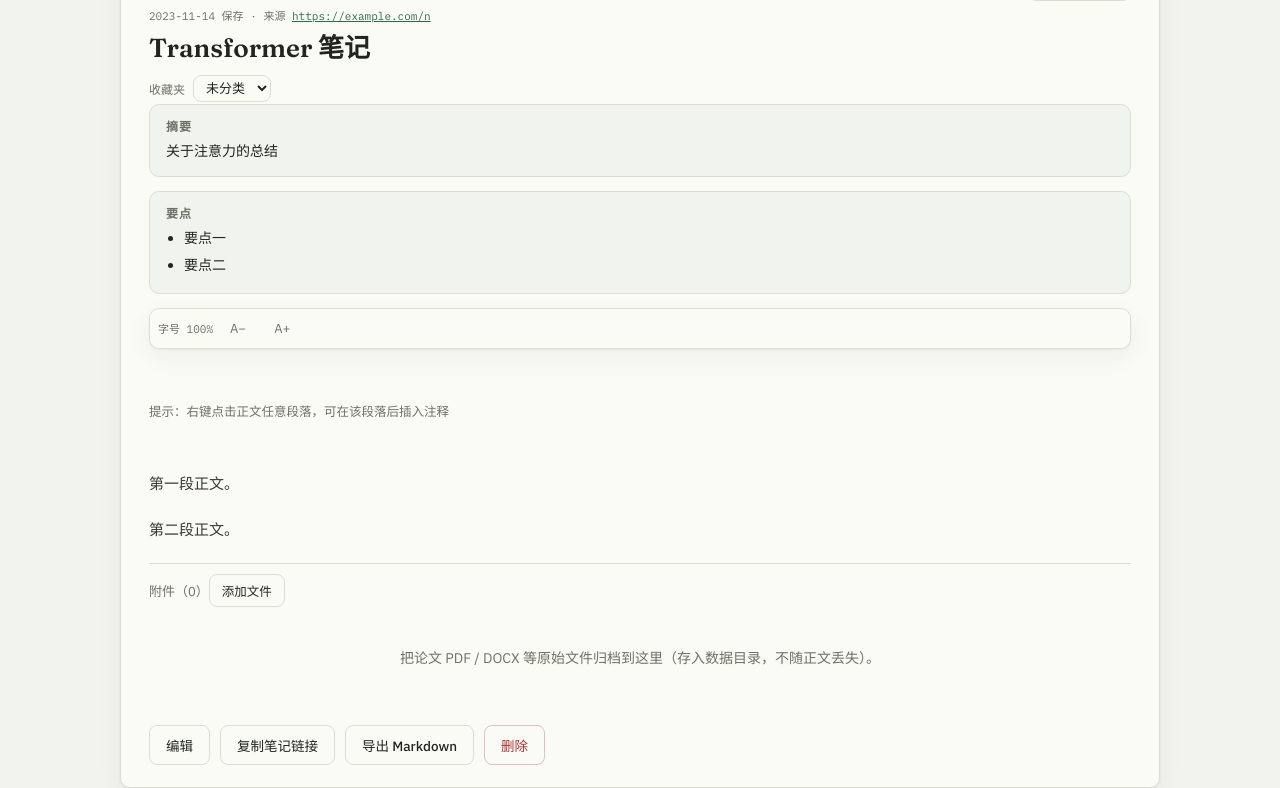
NoteView › 编辑正文并保存修改
(page scrolled)
expect the heading "Transformer 笔记" is shown: met, box [149,32,370,64]
Click the button "编辑" at coordinates (180, 745), box [149,725,210,765]
(page scrolled)
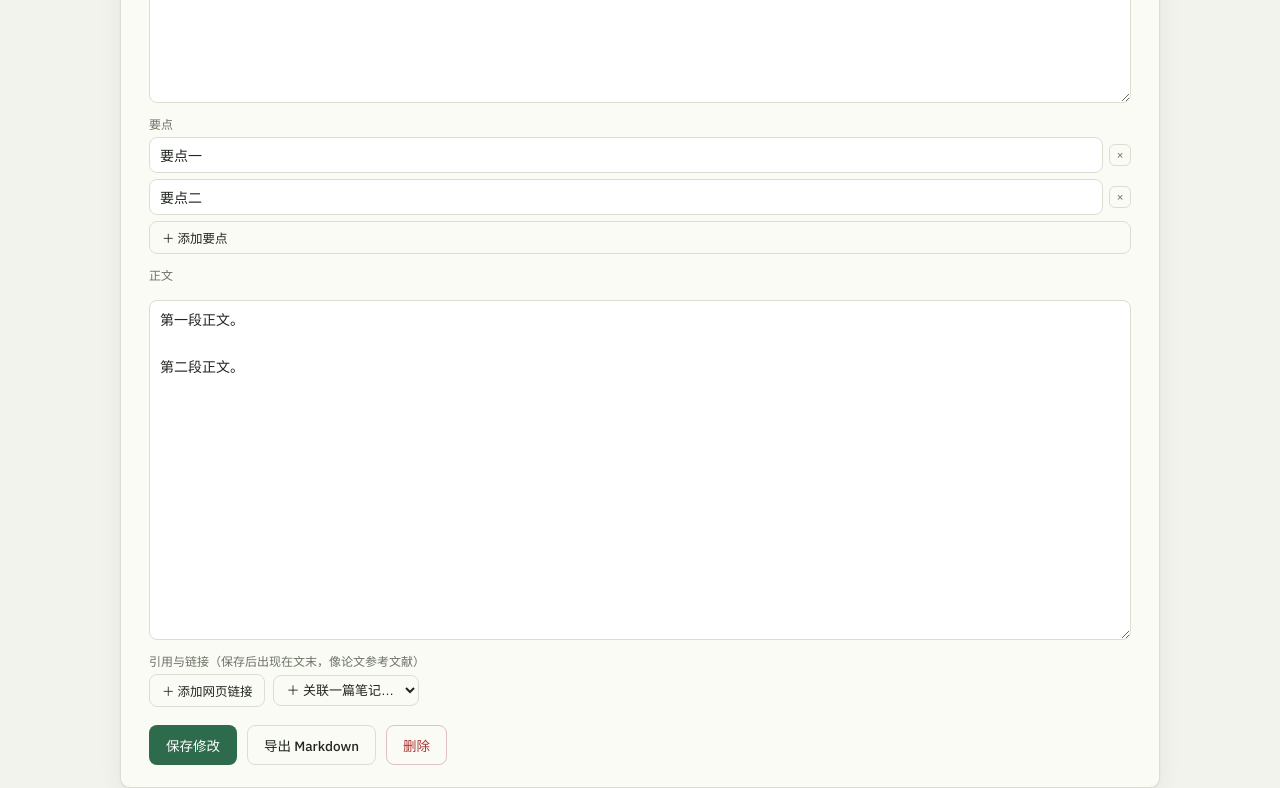
Replace the text in the text box named "笔记正文编辑区" with "新写的正文" at coordinates (640, 470), box [149,300,1131,640]
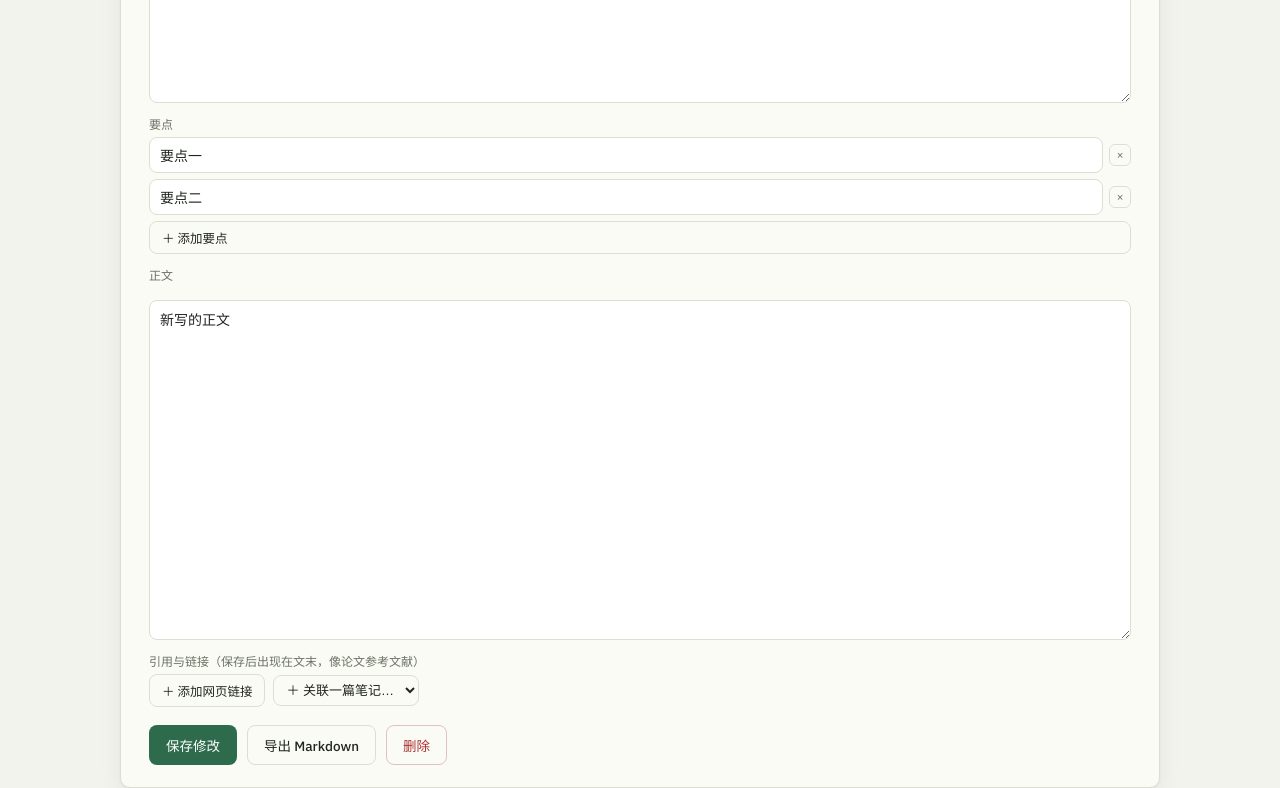
Click the button "保存修改" at coordinates (193, 745), box [149,725,237,765]
(page scrolled)
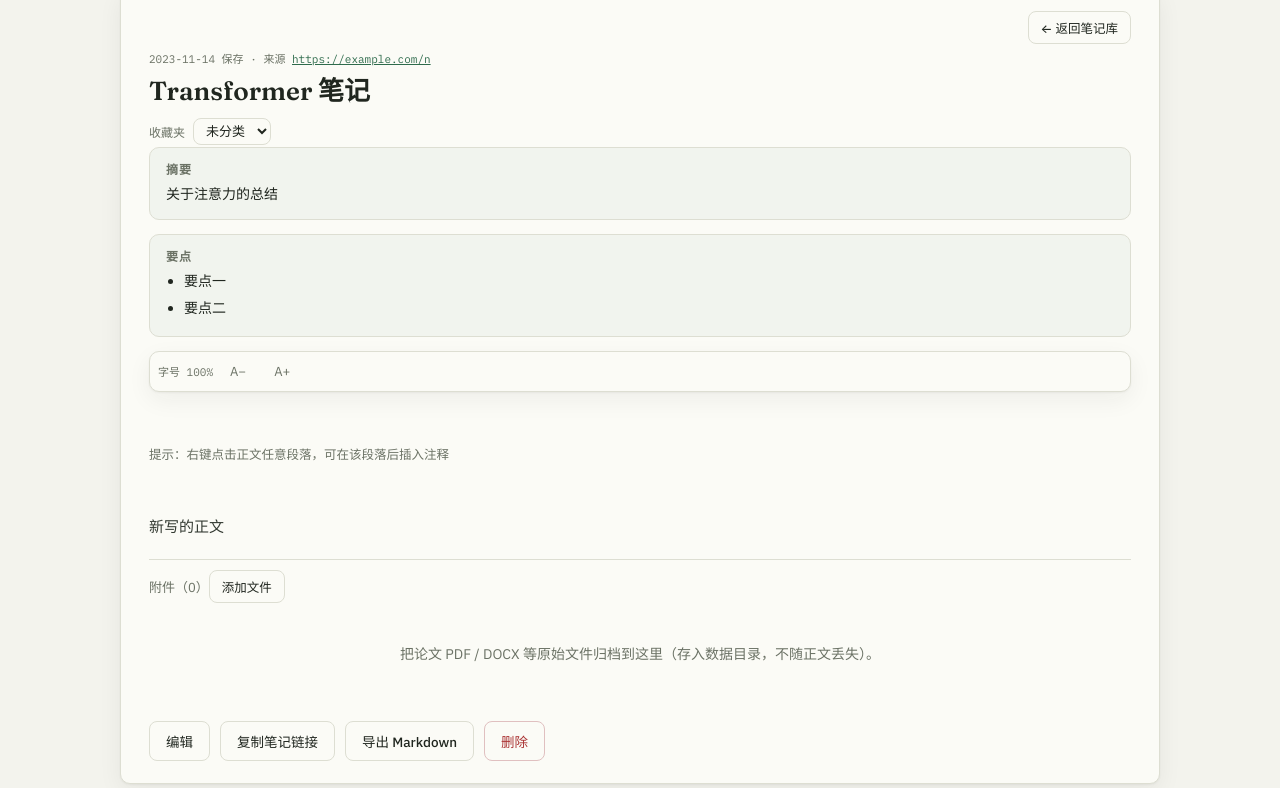
expect the text "新写的正文" is shown: met, box [149,517,224,536]
